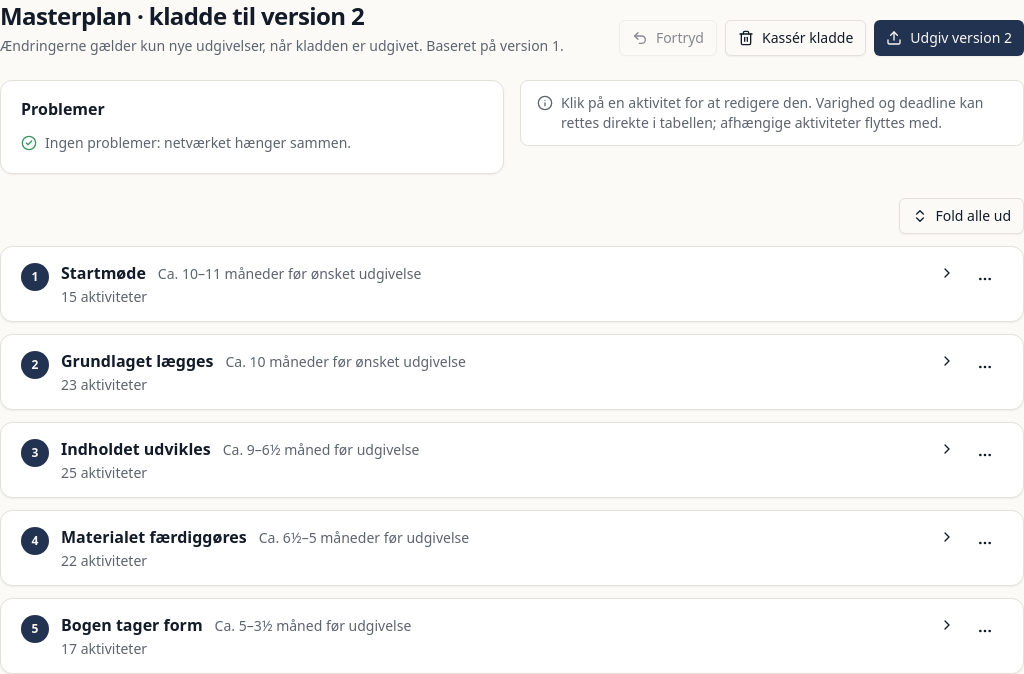
Test: TemplateEditor › publishes the draft as the next version
Later steps or results of the test are not shown.
Click the button that starts with "Indholdet udvikles".
click(136, 449)  # box [21,437,955,483]
(page scrolled)
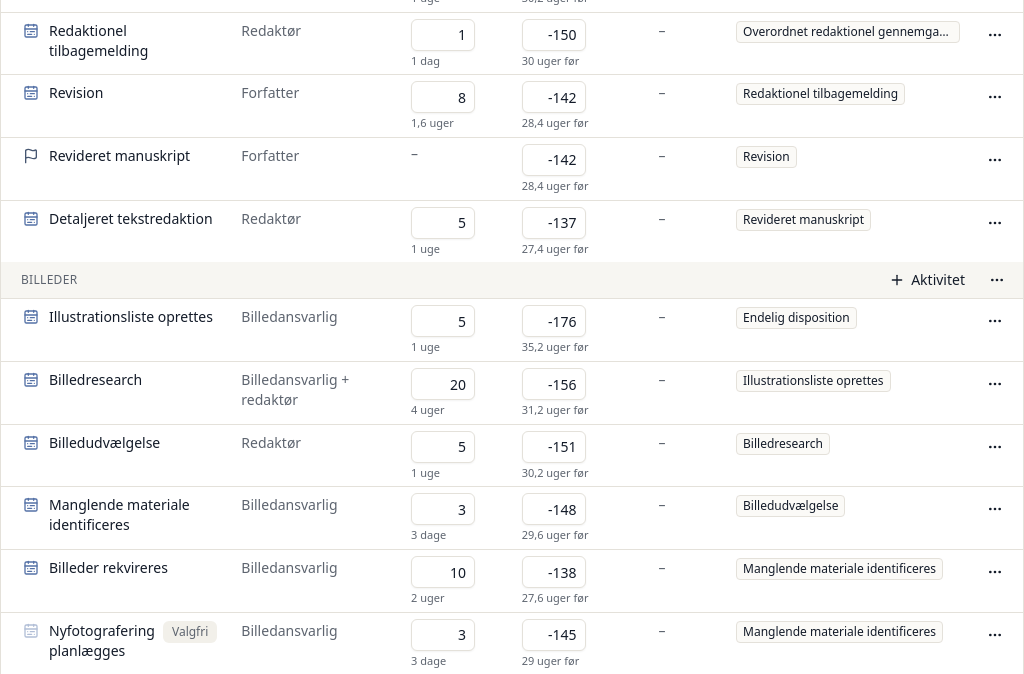
Replace the text in the field named "Varighed (arbejdsdage): Billedresearch" with "25" at (443, 384), box [411,368,475,400]
(page scrolled)
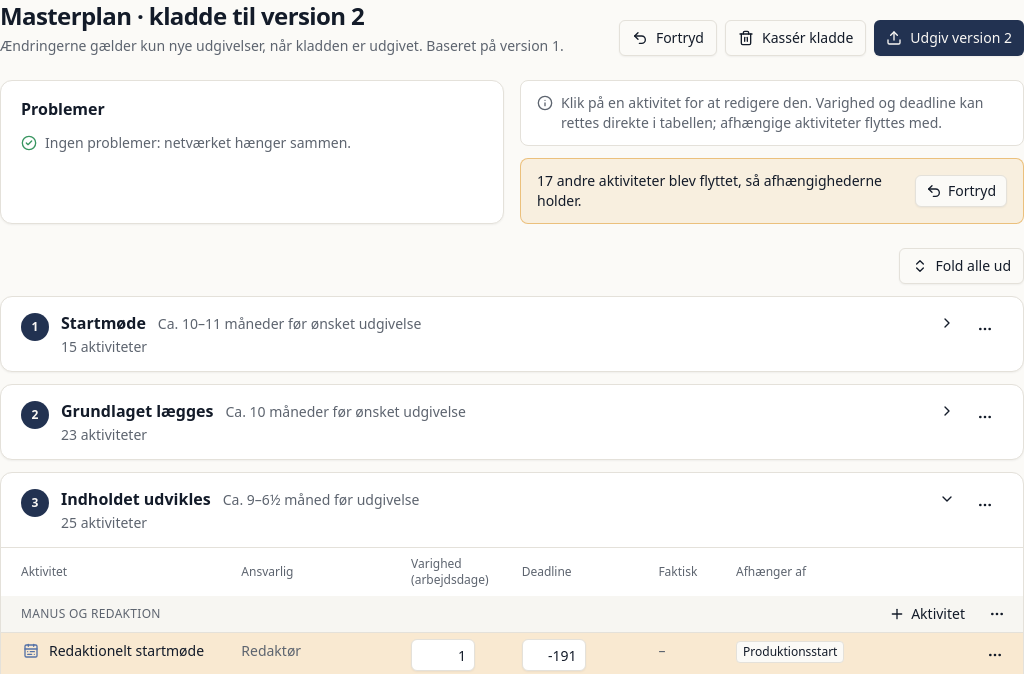
Click the button "Udgiv version 2".
click(949, 38)  # box [874,20,1023,56]
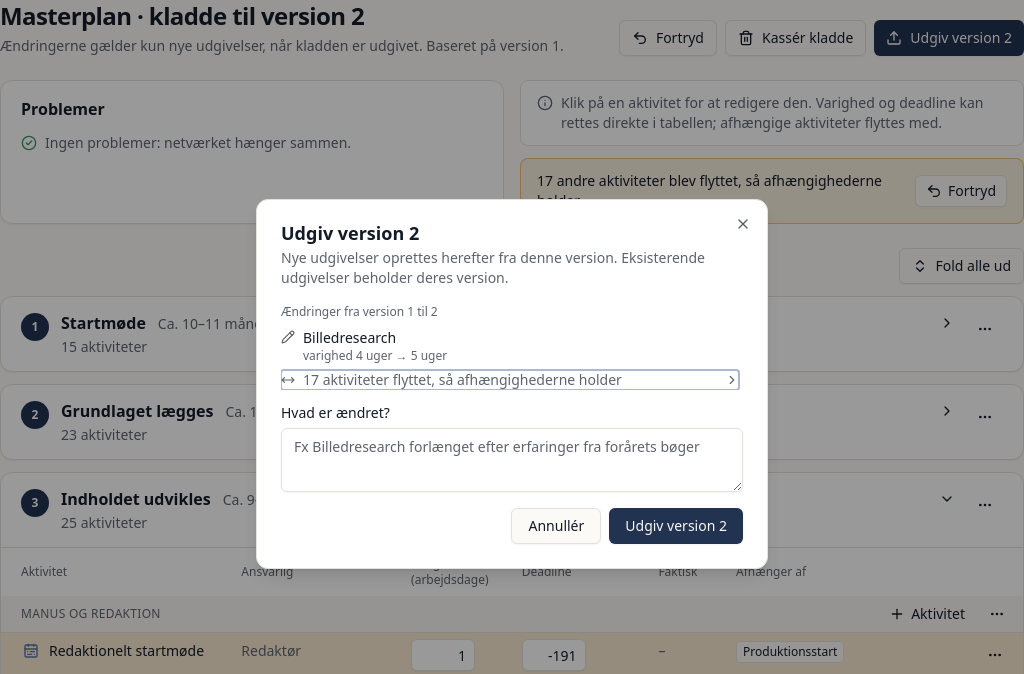
Result: the text "Billedresearch" is shown at [303,328,396,347]
